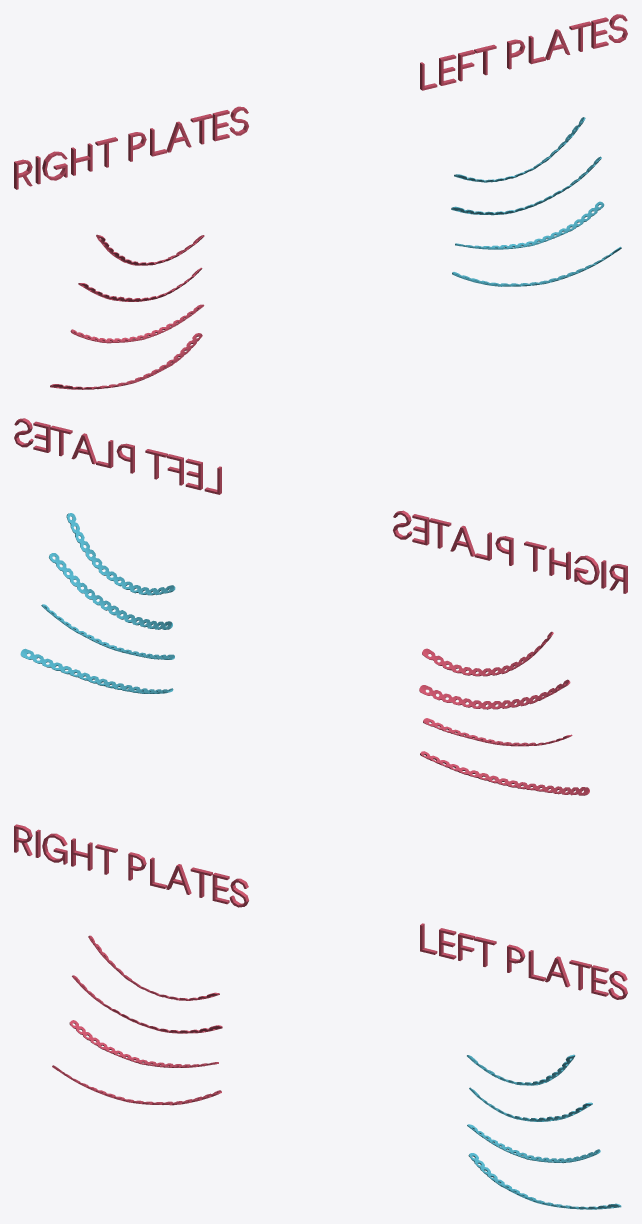
The model's file is matrixRIB.glb.
3 renders of one model, top to bottom at view 1: azimuth 30°, elevation 25°; view 2: azimuth 150°, elevation 25°; view 3: azimuth 330°, elevation 25°, orthographic.
Visible parts, largest first — view 1: Right, Left, se_158367_fLIP2, SECOND_3, se_158367_fLIP3, SECOND_2, se_158383, se_158385, se_158386, se_158387; view 2: Right, Left, se_158383, SECOND_3, se_158387, se_158385, SECOND_2, se_158386, se_158367_fLIP2, se_158367_fLIP3; view 3: Right, Left, se_158367_fLIP3, SECOND_2, se_158367_fLIP2, SECOND_3, se_158387, se_158386.
Part boxes in pixels (<box>): Right: <box>14,106,248,189</box>; Left: <box>420,14,627,90</box>; se_158367_fLIP2: <box>455,201,604,249</box>; SECOND_3: <box>50,333,202,389</box>; se_158367_fLIP3: <box>70,304,204,343</box>; SECOND_2: <box>452,246,621,286</box>; se_158383: <box>451,156,601,215</box>; se_158385: <box>454,117,585,182</box>; se_158386: <box>96,234,204,265</box>; se_158387: <box>78,267,202,301</box>; Right: <box>393,510,627,593</box>; Left: <box>14,418,221,494</box>; se_158383: <box>49,553,172,629</box>; SECOND_3: <box>420,751,589,795</box>; se_158387: <box>419,679,570,709</box>; se_158385: <box>66,513,175,595</box>; SECOND_2: <box>20,648,173,693</box>; se_158386: <box>422,631,553,676</box>; se_158367_fLIP2: <box>41,604,174,659</box>; se_158367_fLIP3: <box>423,718,572,746</box>; Right: <box>14,824,248,907</box>; Left: <box>420,923,627,999</box>; se_158367_fLIP3: <box>69,1020,218,1067</box>; SECOND_2: <box>468,1153,621,1209</box>; se_158367_fLIP2: <box>467,1124,600,1163</box>; SECOND_3: <box>52,1065,221,1105</box>; se_158387: <box>72,975,222,1033</box>; se_158386: <box>88,935,219,1000</box>.
Bounding box in the file's own units: 1.46 × 0.5678 × 0.082.
